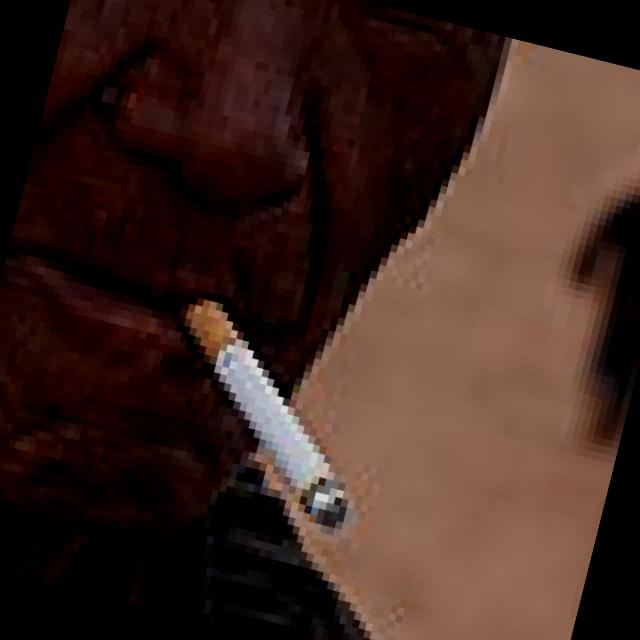cigarette: (161, 286, 397, 534)
